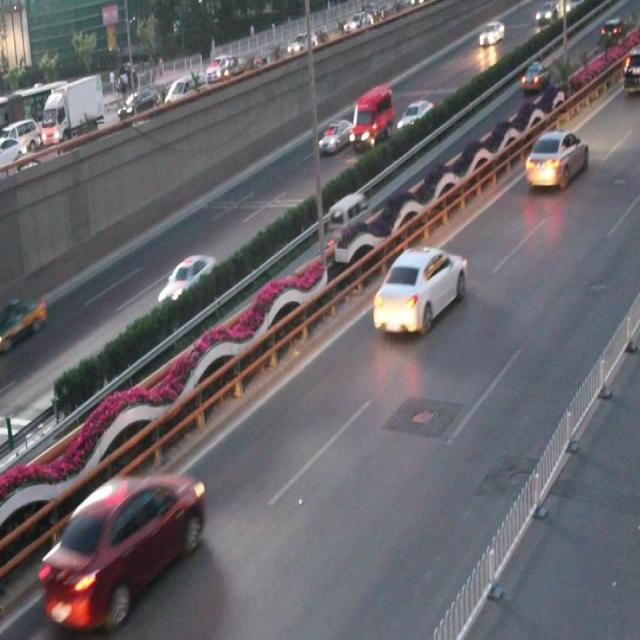car: (40, 475, 207, 619), (372, 247, 467, 333), (524, 128, 587, 191), (156, 254, 217, 307), (1, 295, 48, 346), (395, 98, 433, 134), (316, 118, 352, 152)
truck: (350, 85, 395, 145), (326, 190, 369, 240)
